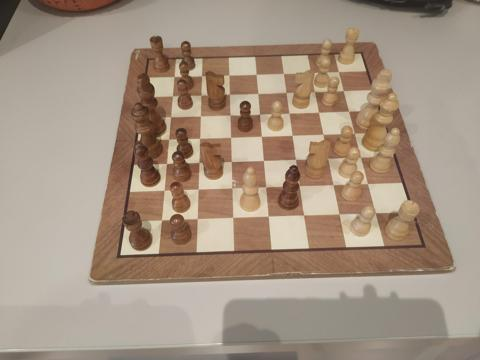xcorner: (228, 215, 238, 225), (300, 212, 310, 222), (296, 182, 306, 192), (330, 181, 340, 191), (292, 155, 302, 165), (226, 132, 236, 142), (289, 130, 299, 140), (320, 129, 330, 139), (351, 128, 361, 138), (195, 110, 205, 120), (225, 88, 235, 98), (254, 87, 264, 97), (280, 67, 290, 77), (335, 65, 345, 75), (155, 218, 165, 227), (192, 216, 201, 226), (264, 214, 274, 223), (336, 211, 346, 220), (372, 210, 382, 219), (158, 187, 167, 197), (193, 186, 202, 196), (227, 185, 237, 194), (364, 180, 374, 189), (160, 160, 170, 169), (194, 158, 203, 168), (227, 157, 236, 167), (260, 156, 269, 166), (325, 154, 335, 163), (163, 134, 172, 144), (195, 133, 204, 143), (258, 131, 267, 141), (165, 111, 174, 121), (226, 109, 235, 119), (256, 108, 265, 118), (286, 107, 295, 117), (316, 106, 325, 116), (196, 89, 206, 98), (283, 86, 292, 96), (340, 85, 350, 94), (169, 70, 178, 80), (197, 69, 206, 79), (308, 66, 317, 76), (262, 184, 271, 193), (358, 153, 367, 162), (346, 106, 355, 115), (167, 90, 176, 99), (312, 86, 321, 95), (225, 69, 234, 78), (253, 68, 262, 77)
